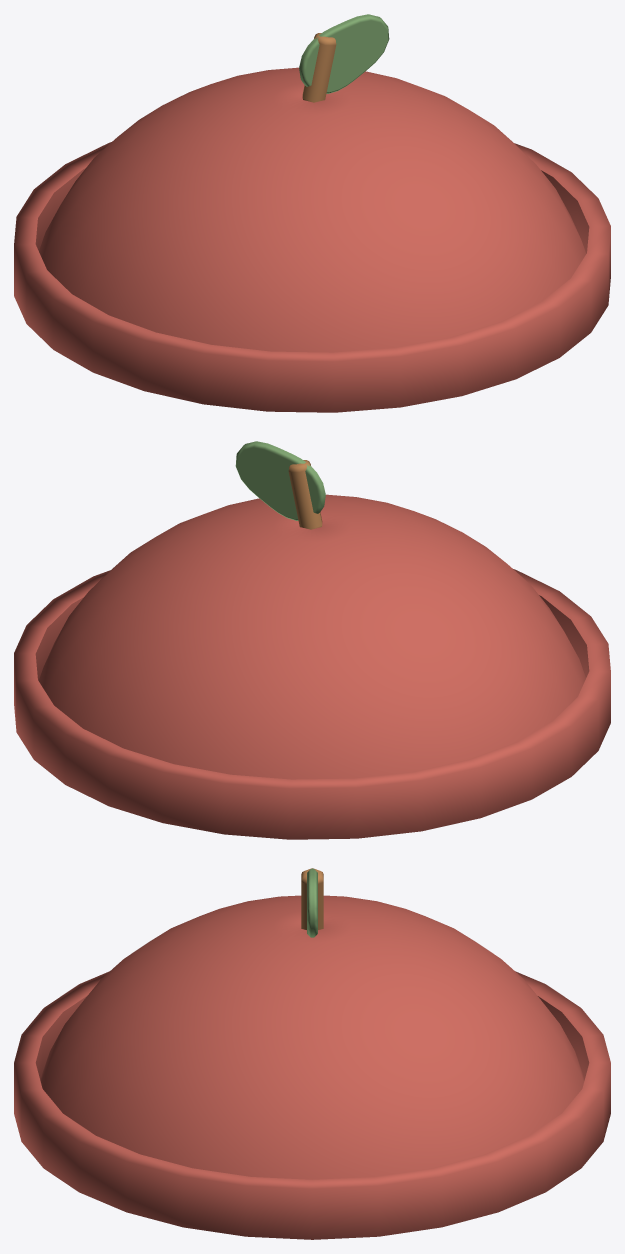
Rendered from cherry_hat.glb.
3 views of the same model, one above another, from view 1: azimuth 30°, elevation 25°; view 2: azimuth 150°, elevation 25°; view 3: azimuth 270°, elevation 25° (orthographic).
Parts seen in each view (by area): view 1: cherry_hat_Head; view 2: cherry_hat_Head; view 3: cherry_hat_Head.
Part boxes in pixels (x1=…): cherry_hat_Head: x1=14, y1=14, x2=610, y2=412; cherry_hat_Head: x1=14, y1=441, x2=610, y2=839; cherry_hat_Head: x1=14, y1=868, x2=610, y2=1239.
Bounding box in the file's own units: 0.744 × 0.3545 × 0.744.
